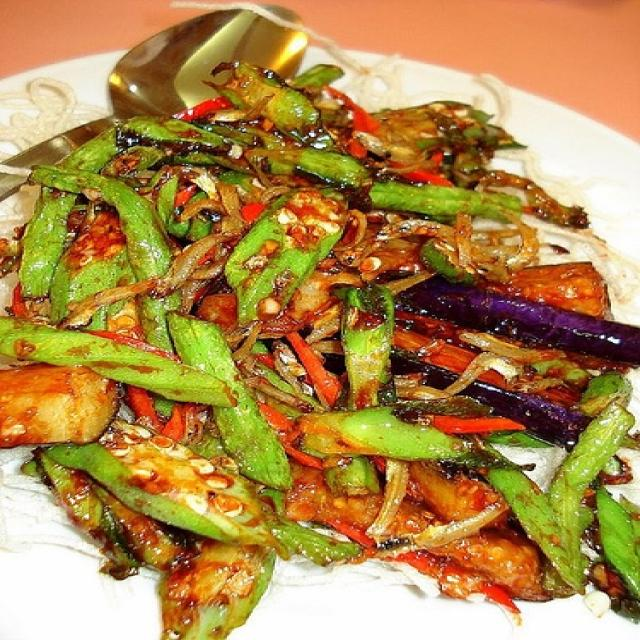蔬菜料理: (16, 37, 626, 608)
